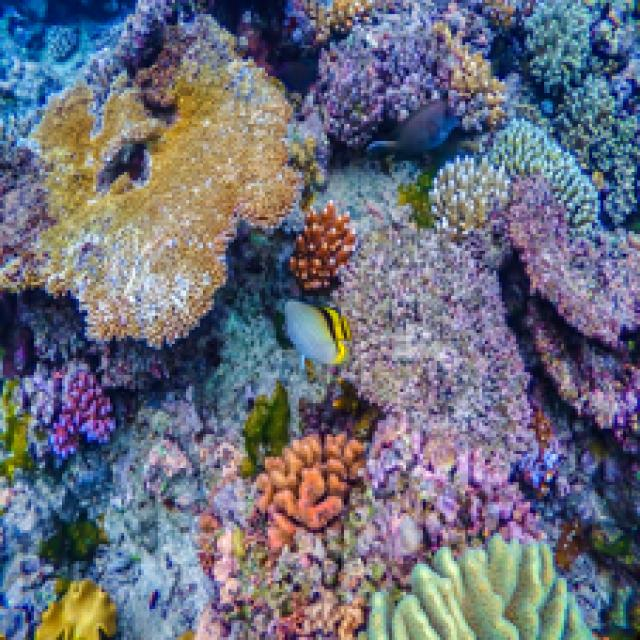Bleached: (102, 243, 322, 616)
Healthy: (1, 18, 297, 342), (334, 227, 534, 477), (201, 441, 384, 638), (308, 4, 506, 145), (368, 415, 537, 576), (520, 1, 638, 218), (503, 181, 638, 351), (368, 537, 593, 638), (523, 294, 638, 438), (480, 119, 596, 227), (4, 365, 114, 477), (258, 435, 362, 545), (432, 156, 508, 235), (291, 204, 353, 289), (35, 579, 114, 638)
